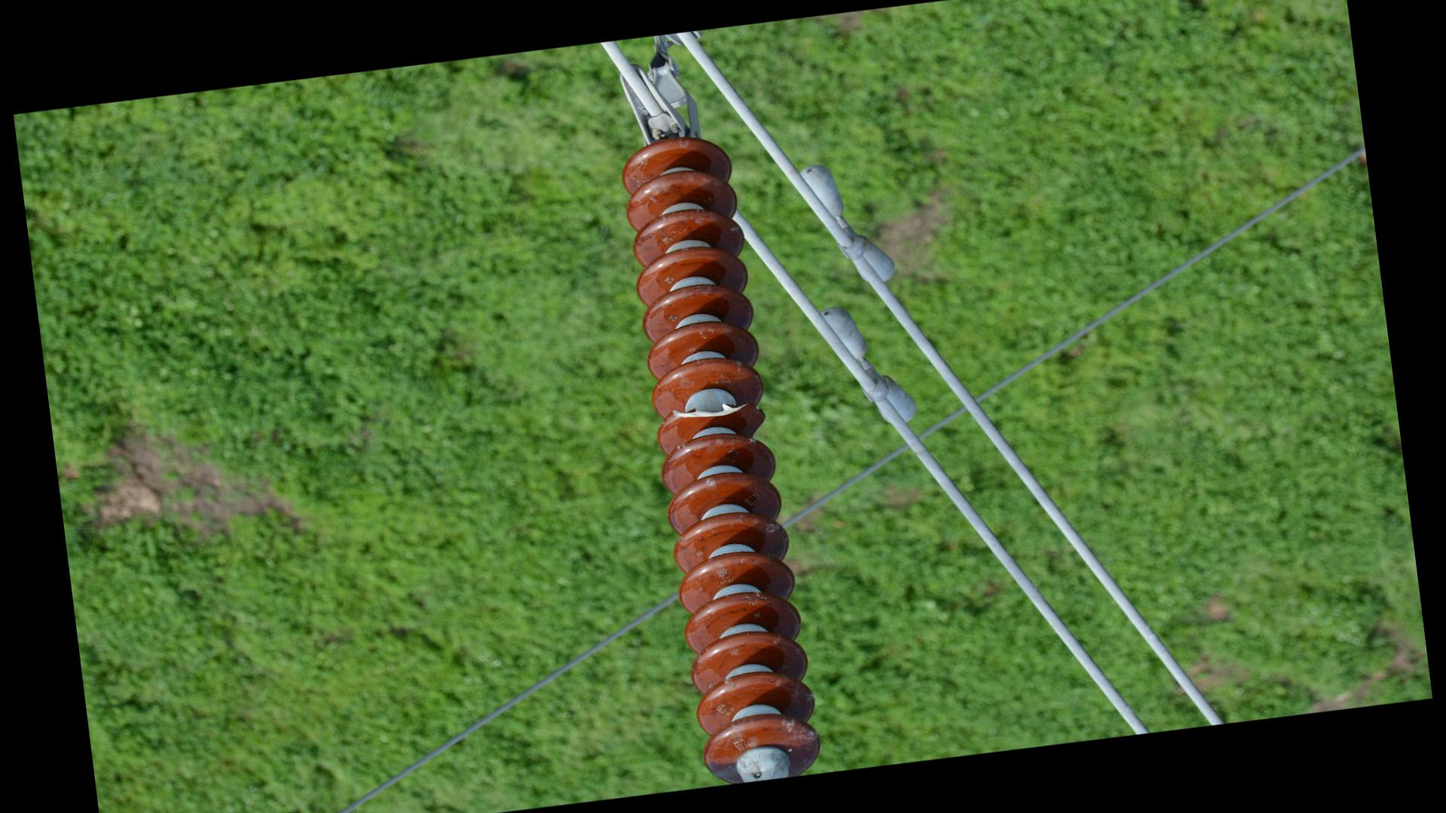damper: (813, 294, 923, 440), (795, 152, 900, 295)
